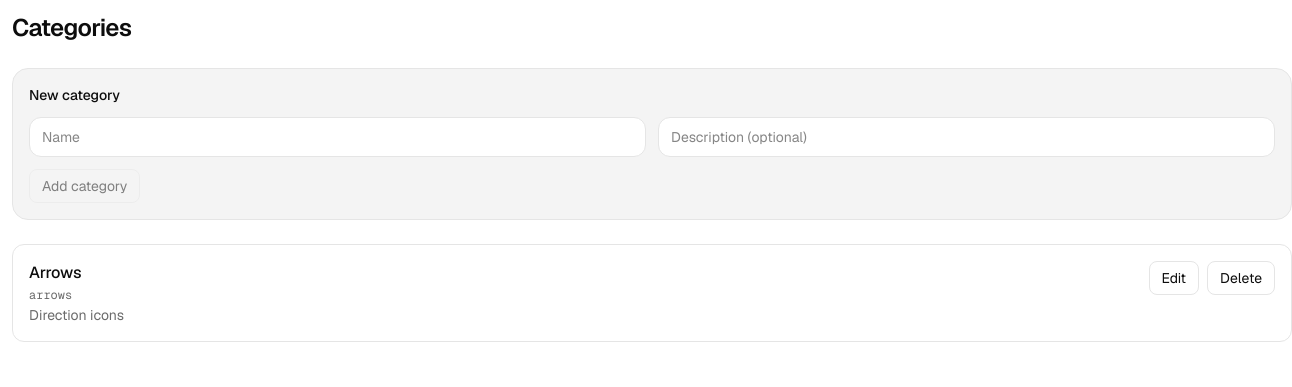
Scenario: <CategoriesAdmin /> › explains why a category with icons cannot be deleted
Click the button with aria-label "Delete Arrows": (1241, 278) [1207,261,1275,295]
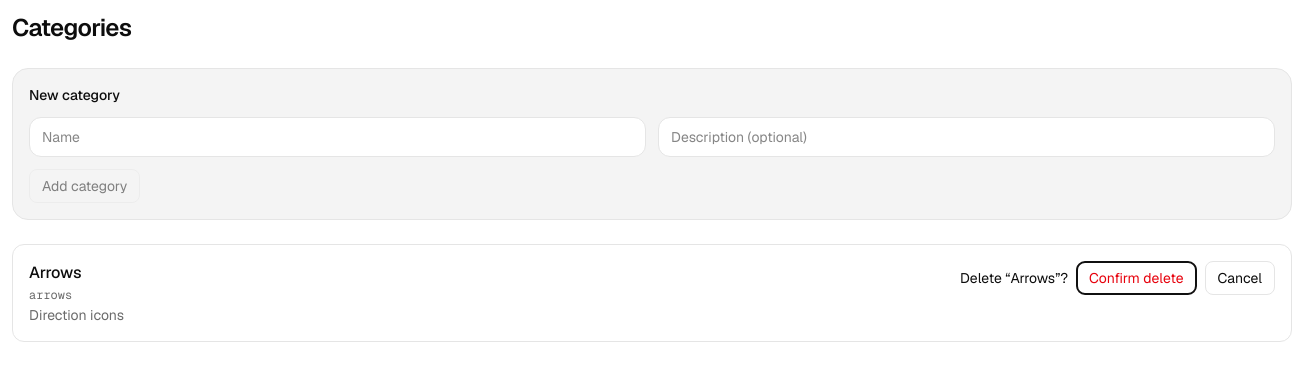
Click the button "Confirm delete": (1136, 278) [1076,261,1197,295]
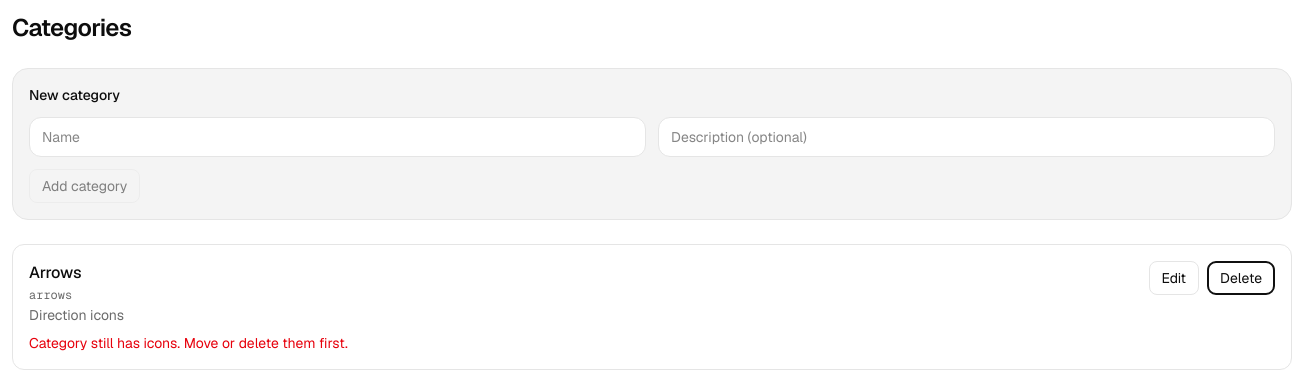
Expected: the text "Arrows" is shown, [29,262,82,283]
Expected: the message shows "still has icons", [29,334,348,352]
